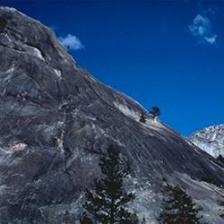neutral: (2, 1, 222, 221)
